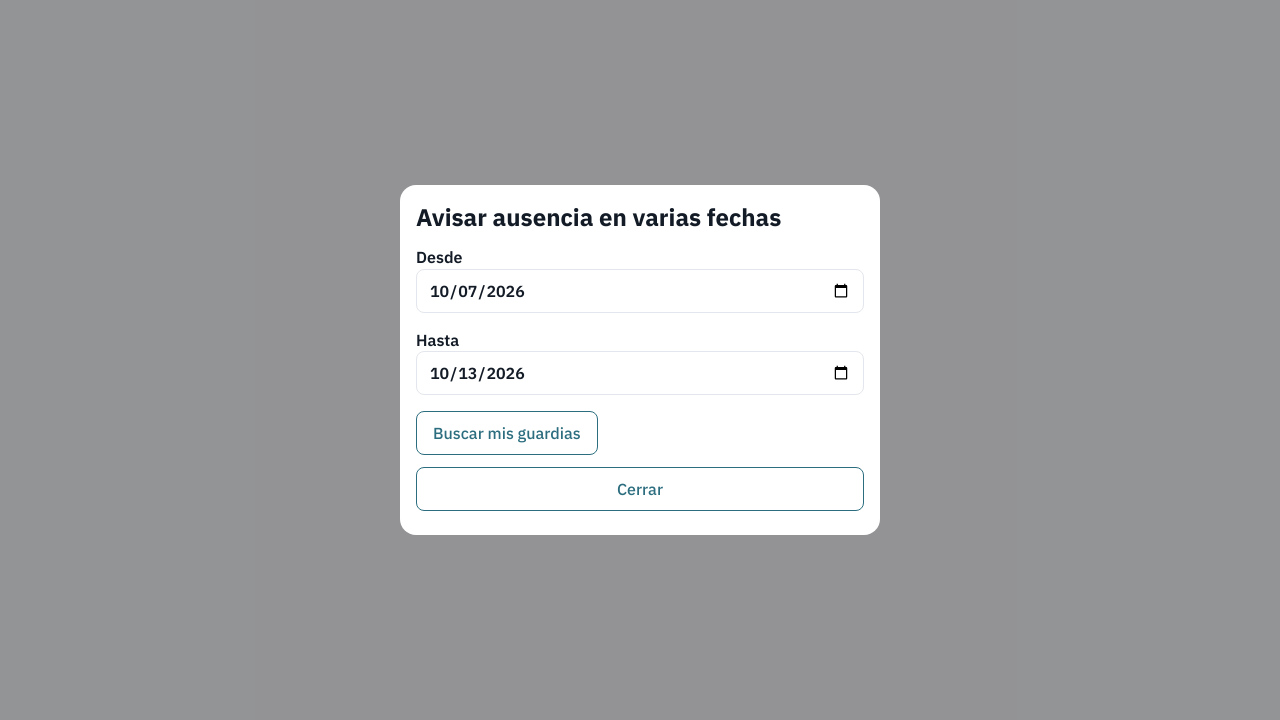
Test case: AusenciaVarios › manda los turnos elegidos y el motivo; el motivo es obligatorio
Click the button "Buscar mis guardias". click: x=507, y=433
box: x1=416 y1=411 x2=598 y2=455
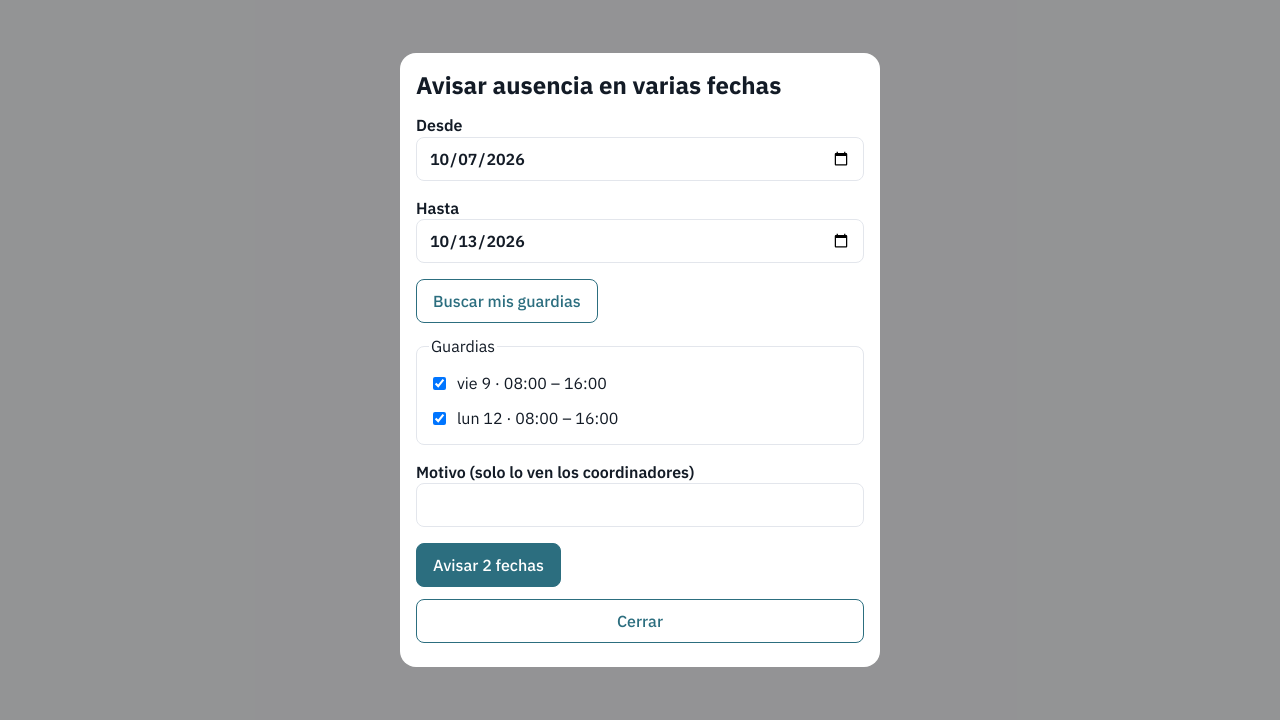
Click the checkbox labelled "lun 12 · 08:00 – 16:00". click: x=440, y=418
box: x1=433 y1=412 x2=446 y2=425
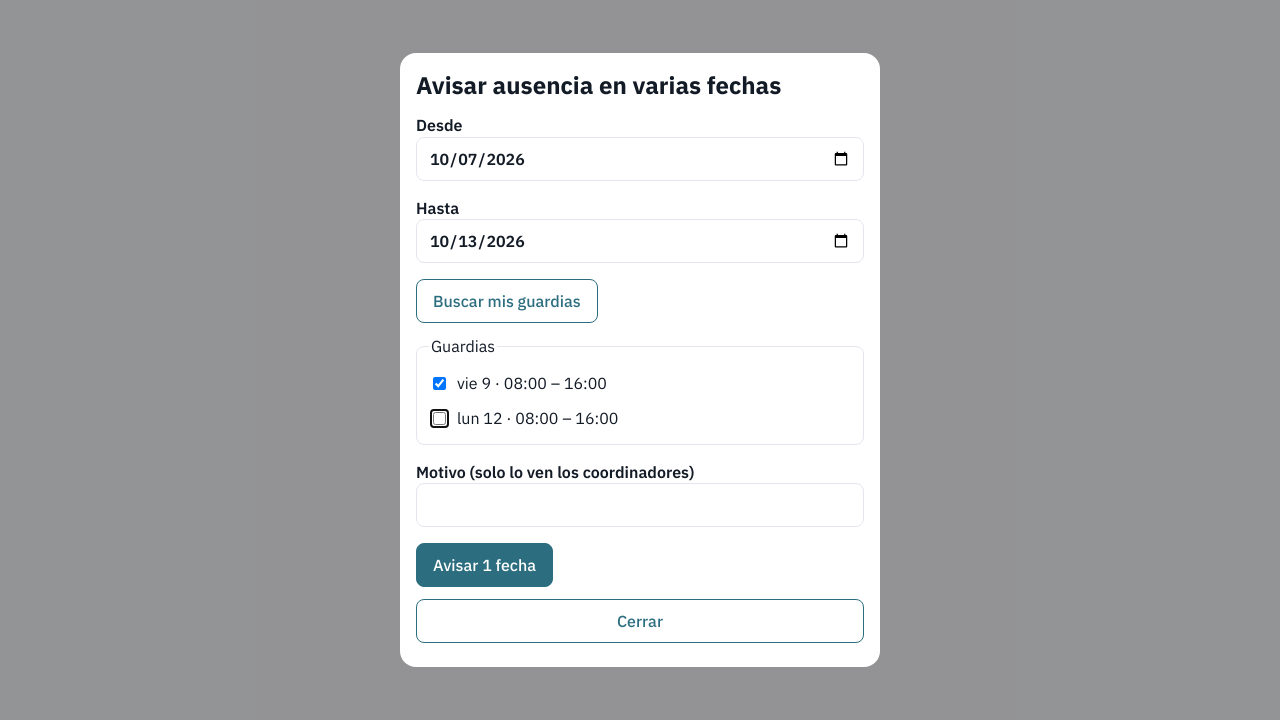
Click the button "Avisar 1 fecha". click: x=484, y=565
box: x1=416 y1=543 x2=553 y2=587
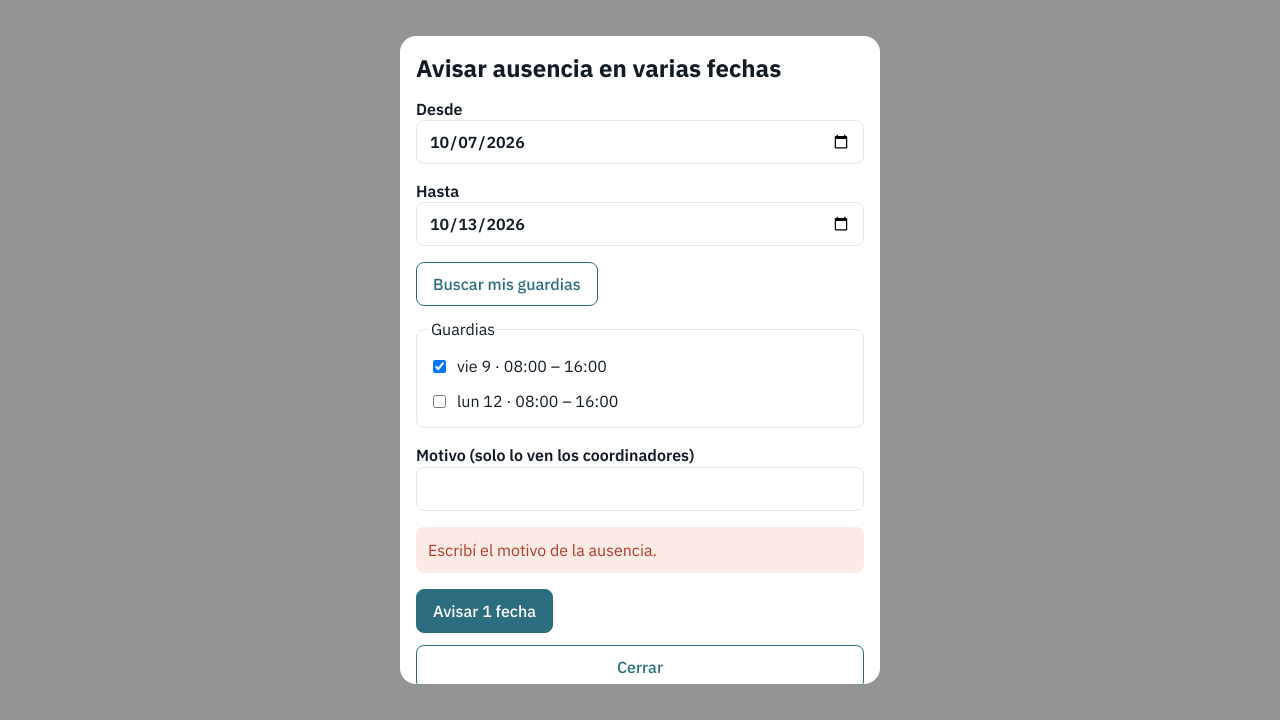
Expected: the message shows "Escribí el motivo", x1=428 y1=540 x2=657 y2=560
Type "Vacaciones" into the field labelled "Motivo (solo lo ven los coordinadores)". click: x=640, y=488
box: x1=416 y1=466 x2=864 y2=510
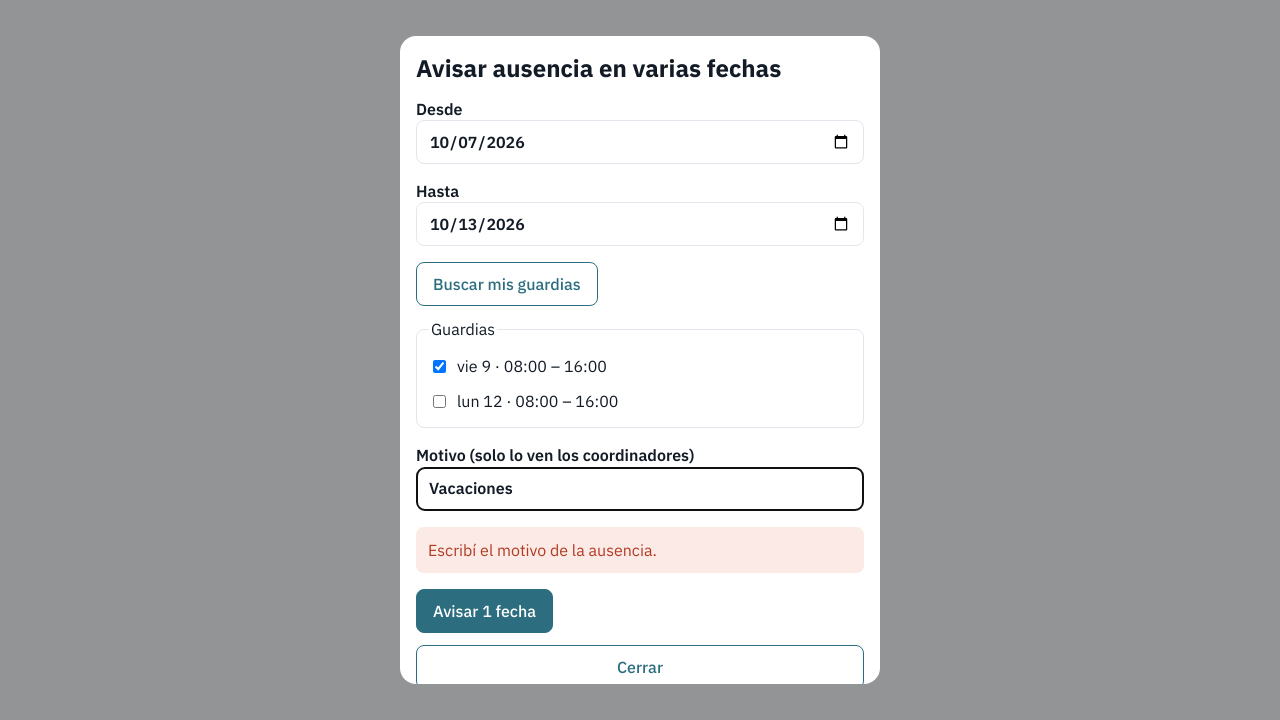
Click the button "Avisar 1 fecha". click: x=484, y=611
box: x1=416 y1=589 x2=553 y2=633
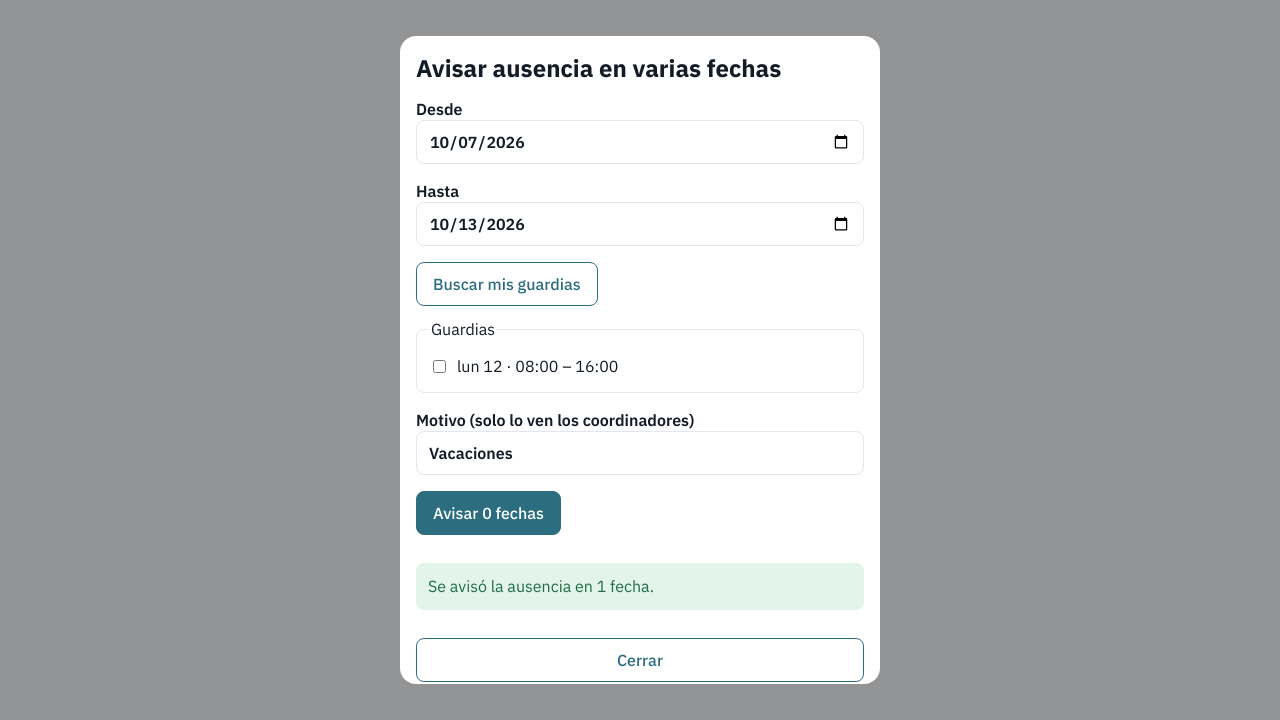
Expected: the text "Se avisó la ausencia en 1 fecha." is shown, x1=416 y1=563 x2=864 y2=610
